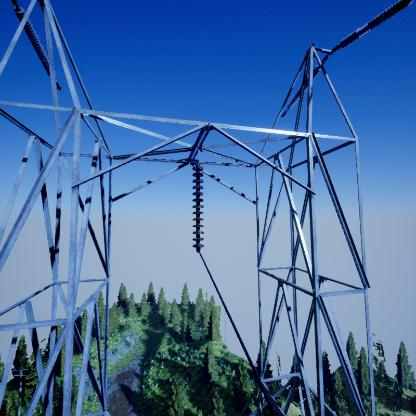insulator: (190, 162, 205, 254)
